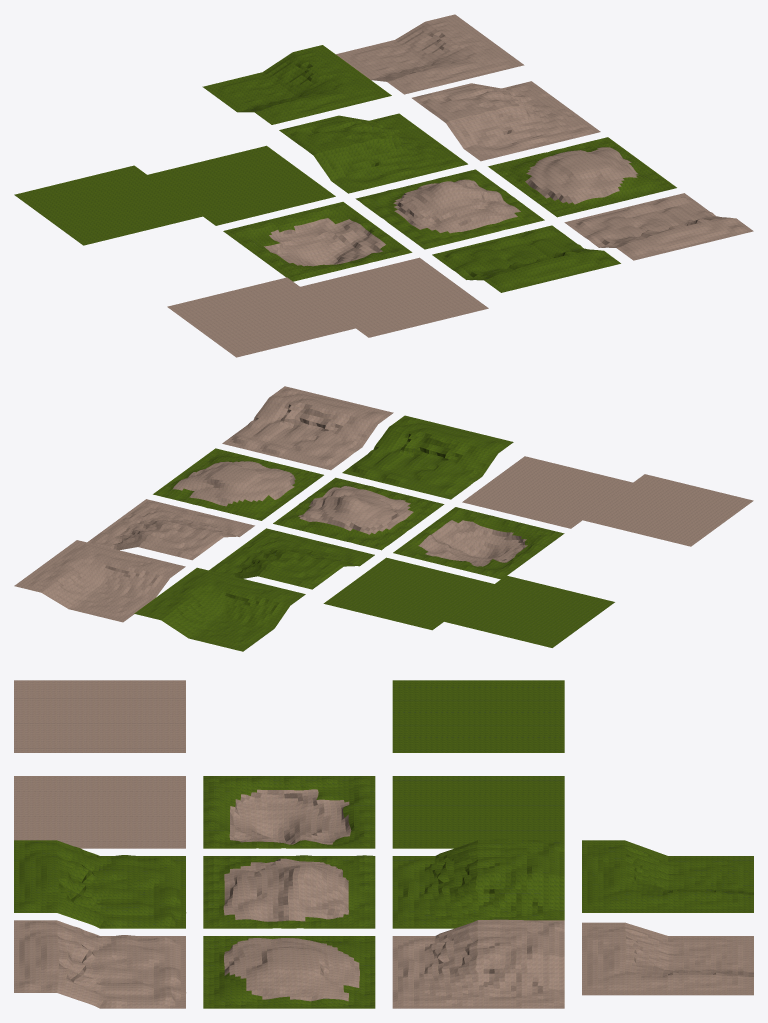
File: hills_Tileset_new.glb
The picture shows the model from 3 angles, top to bottom: view 1: azimuth 30°, elevation 25°; view 2: azimuth 150°, elevation 25°; view 3: azimuth 270°, elevation 25°; orthographic projection. The views are drawn at different scales.
Visible parts, largest first — view 1: Plane.004, Plane.004 .001, Plane1 .003, Plane1 .002, Plane.001, Plane, Plane.002, Plane1, Plane1 .001, Plane.003 .001, Plane.003, Plane.005 (+1 smaller); view 2: Plane.005, Plane.005 .001, Plane.003, Plane.003 .001, Plane.002, Plane1 .003, Plane, Plane.001, Plane1 .002, Plane1, Plane1 .001, Plane.004 .001 (+1 smaller); view 3: Plane.004 .001, Plane.004, Plane.001, Plane, Plane.002, Plane1 .002, Plane.005, Plane.005 .001, Plane1 .003, Plane1 .001, Plane1, Plane.003 .001 (+1 smaller).
Boxes of the visible parts, x1=… form: Plane.004: x1=279, y1=113, x2=467, y2=193; Plane.004 .001: x1=412, y1=81, x2=600, y2=161; Plane1 .003: x1=167, y1=277, x2=356, y2=357; Plane1 .002: x1=14, y1=165, x2=203, y2=245; Plane.001: x1=355, y1=169, x2=544, y2=249; Plane: x1=223, y1=202, x2=412, y2=281; Plane.002: x1=488, y1=137, x2=676, y2=217; Plane1: x1=148, y1=145, x2=335, y2=225; Plane1 .001: x1=300, y1=257, x2=488, y2=337; Plane.003 .001: x1=336, y1=14, x2=524, y2=94; Plane.003: x1=202, y1=45, x2=391, y2=124; Plane.005: x1=432, y1=225, x2=620, y2=292; Plane.005: x1=342, y1=415, x2=513, y2=499; Plane.005 .001: x1=222, y1=386, x2=393, y2=470; Plane.003: x1=134, y1=567, x2=305, y2=651; Plane.003 .001: x1=14, y1=540, x2=185, y2=622; Plane.002: x1=153, y1=448, x2=323, y2=520; Plane1 .003: x1=582, y1=474, x2=753, y2=546; Plane: x1=393, y1=507, x2=564, y2=579; Plane.001: x1=273, y1=477, x2=444, y2=550; Plane1 .002: x1=443, y1=575, x2=614, y2=647; Plane1: x1=323, y1=557, x2=493, y2=630; Plane1 .001: x1=462, y1=456, x2=632, y2=528; Plane.004 .001: x1=87, y1=499, x2=254, y2=560; Plane.004 .001: x1=392, y1=919, x2=564, y2=1008; Plane.004: x1=392, y1=839, x2=564, y2=928; Plane.001: x1=203, y1=855, x2=375, y2=928; Plane: x1=203, y1=776, x2=375, y2=848; Plane.002: x1=203, y1=936, x2=375, y2=1008; Plane1 .002: x1=392, y1=680, x2=564, y2=752; Plane.005: x1=14, y1=840, x2=186, y2=928; Plane.005 .001: x1=14, y1=920, x2=186, y2=1008; Plane1 .003: x1=14, y1=680, x2=185, y2=752; Plane1 .001: x1=14, y1=776, x2=185, y2=848; Plane1: x1=392, y1=776, x2=564, y2=848; Plane.003 .001: x1=582, y1=922, x2=753, y2=995.
Bounding box in the file's own units: 43.04 × 3.29 × 43.
Materials: 1 (1 with a texture image).
